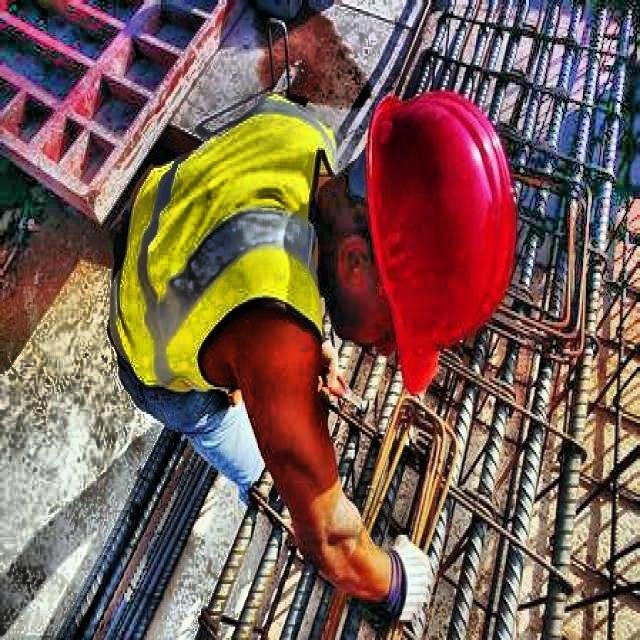person: (90, 85, 503, 613)
